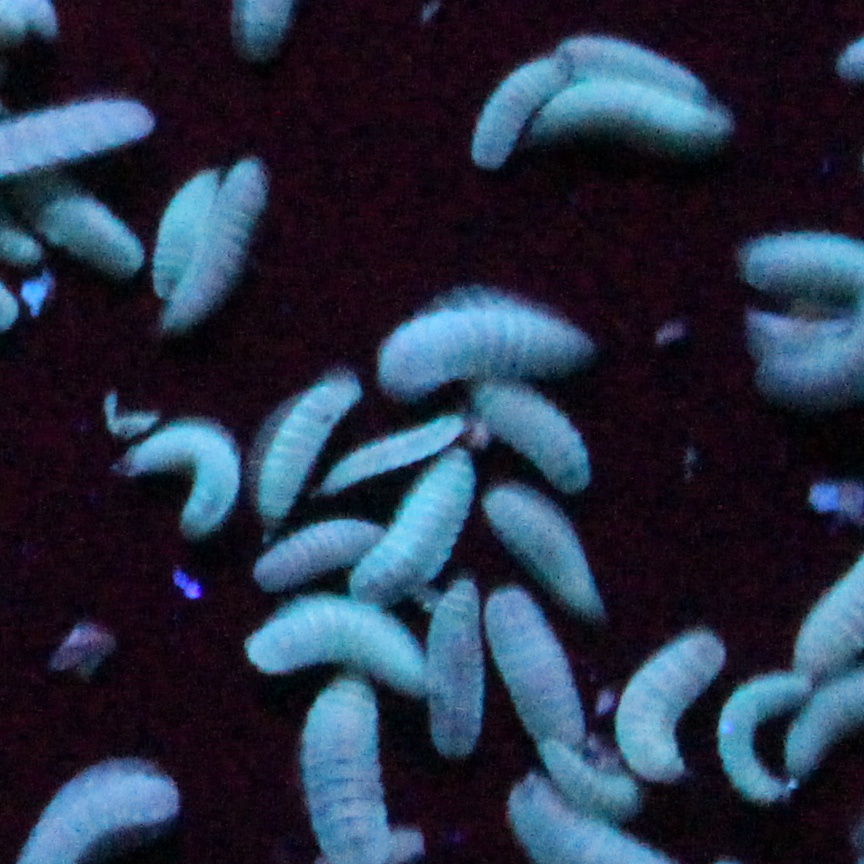larve: (376, 291, 597, 399), (348, 448, 477, 604), (482, 474, 608, 619), (482, 585, 588, 750), (242, 597, 428, 690), (167, 160, 267, 331), (616, 630, 725, 784), (254, 370, 362, 519), (122, 417, 242, 540), (471, 380, 594, 496), (532, 82, 736, 148), (18, 182, 145, 285), (717, 671, 808, 805), (549, 31, 712, 103), (469, 56, 571, 168), (331, 416, 463, 494), (425, 577, 482, 757), (254, 522, 394, 594), (147, 168, 222, 297), (539, 739, 640, 825), (745, 307, 849, 346)
